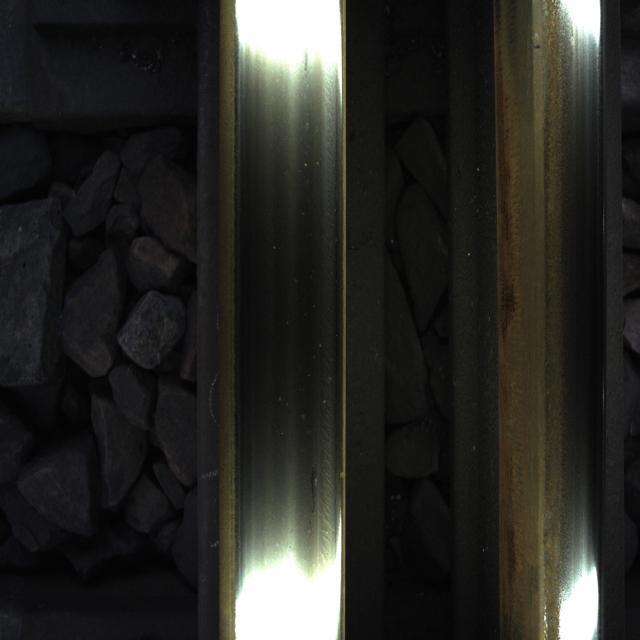break: (242, 48, 332, 610)
